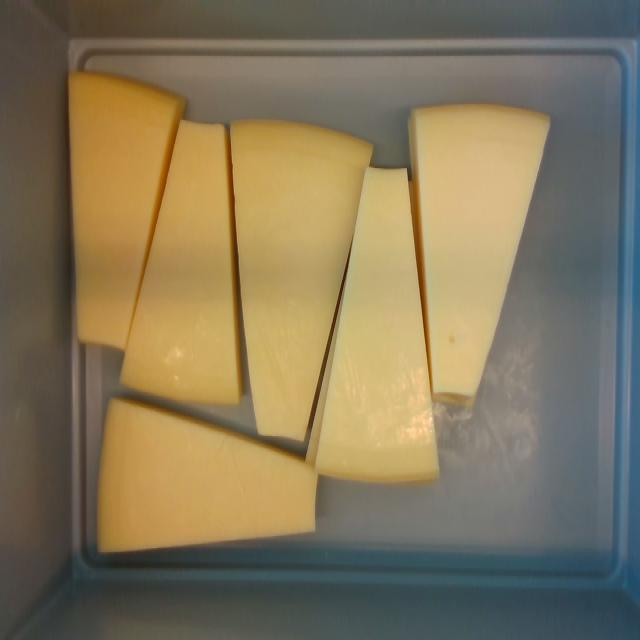Cheese: (232, 123, 372, 441), (411, 105, 548, 395), (317, 169, 435, 477), (99, 401, 315, 551), (125, 119, 235, 401), (70, 73, 182, 348)
